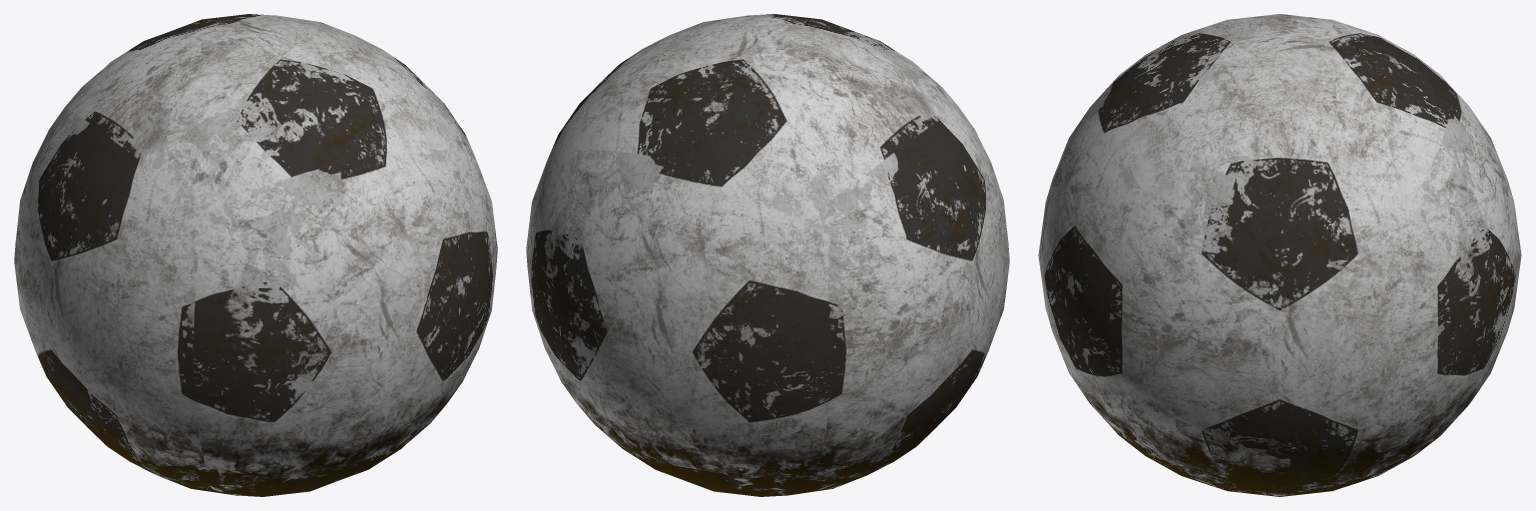
Rendered from soccer_ball_by_3d_mas__free_assets.glb.
3 renders of one model, left to right at view 1: azimuth 30°, elevation 25°; view 2: azimuth 150°, elevation 25°; view 3: azimuth 270°, elevation 25°, orthographic.
Visible parts, largest first — view 1: Balon_low__0; view 2: Balon_low__0; view 3: Balon_low__0.
Boxes of the visible parts, x1,y1,x2,y2 form: Balon_low__0: (14, 14, 497, 496); Balon_low__0: (526, 14, 1009, 496); Balon_low__0: (1038, 14, 1521, 496).
Size of the model in its own units: 19.87 by 19.87 by 19.87.
1 material, 1 textured.
